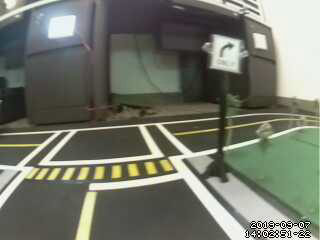Right_only_sign: (207, 29, 242, 78)
